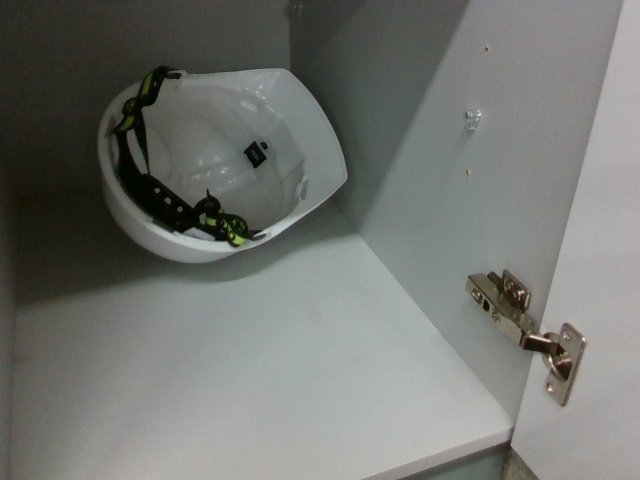helmet: (96, 53, 355, 265)
